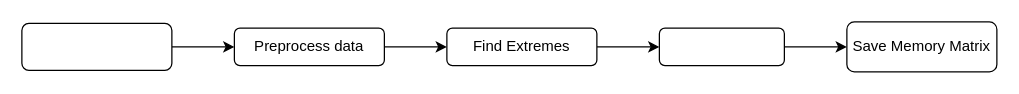
This 1019x94 diagram has some shape labels left out. Here are the shapes that lost their labels. From the top down, the centre of each, then its label:
point (96, 46): Gather Training Data
point (721, 46): Sort by Steps
